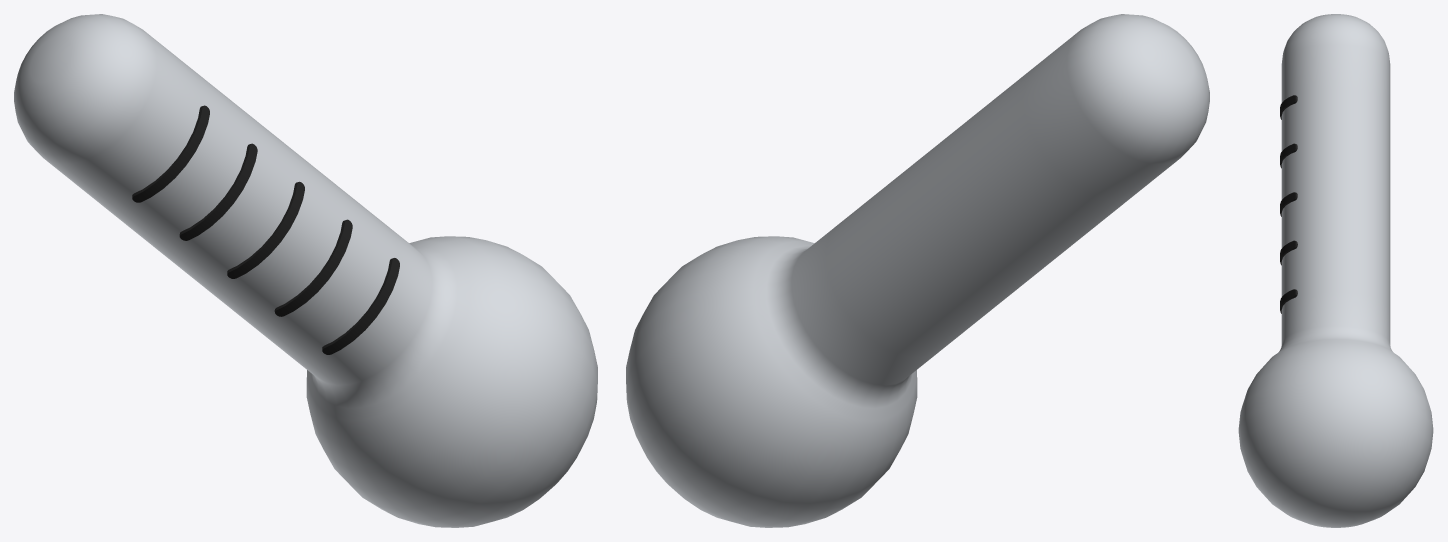
File: thermometer.glb
The picture shows the model from 3 angles, left to right: view 1: azimuth 30°, elevation 25°; view 2: azimuth 150°, elevation 25°; view 3: azimuth 270°, elevation 25°; orthographic projection. The views are drawn at different scales.
Visible parts, largest first — view 1: Sphere.511; view 2: Sphere.511; view 3: Sphere.511.
Boxes of the visible parts, <box> form: Sphere.511: <box>14,14,597,527</box>; Sphere.511: <box>626,14,1209,527</box>; Sphere.511: <box>1238,14,1433,527</box>.
Bounding box in the file's own units: 2.18 × 2.18 × 1.
Materials: 2 (1 with a texture image).
